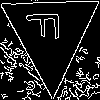F: (26, 9, 67, 42)
